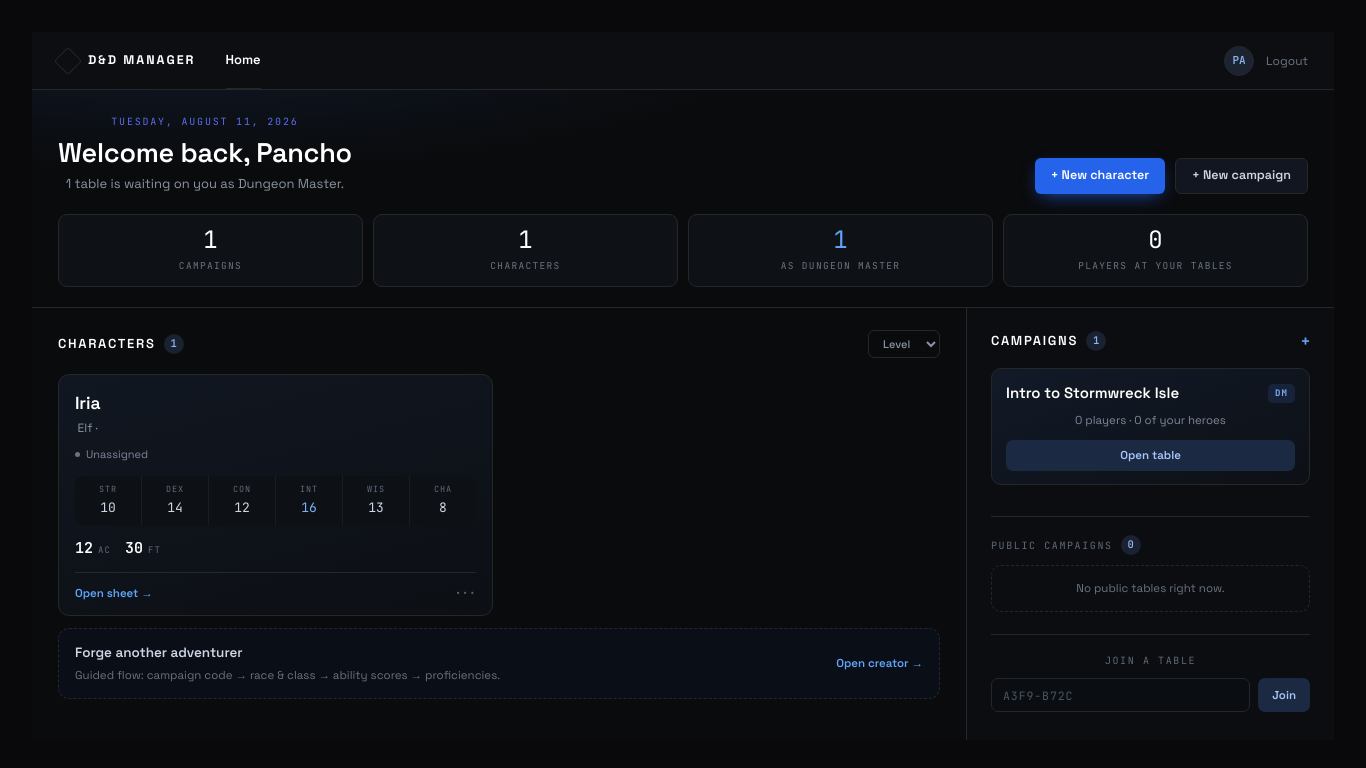
Test case: App home navigation and persistence › persists sort to localStorage and restores it after a character-sheet round trip
Expected: the text "Iria" is shown, [75, 390, 100, 416]
Select "Level" in the dropdown named "Sort characters". click: point(904, 344)
box: [868, 330, 940, 358]
Click the button "Intro to Stormwreck Isle". click: point(1093, 394)
box: [1006, 382, 1179, 405]
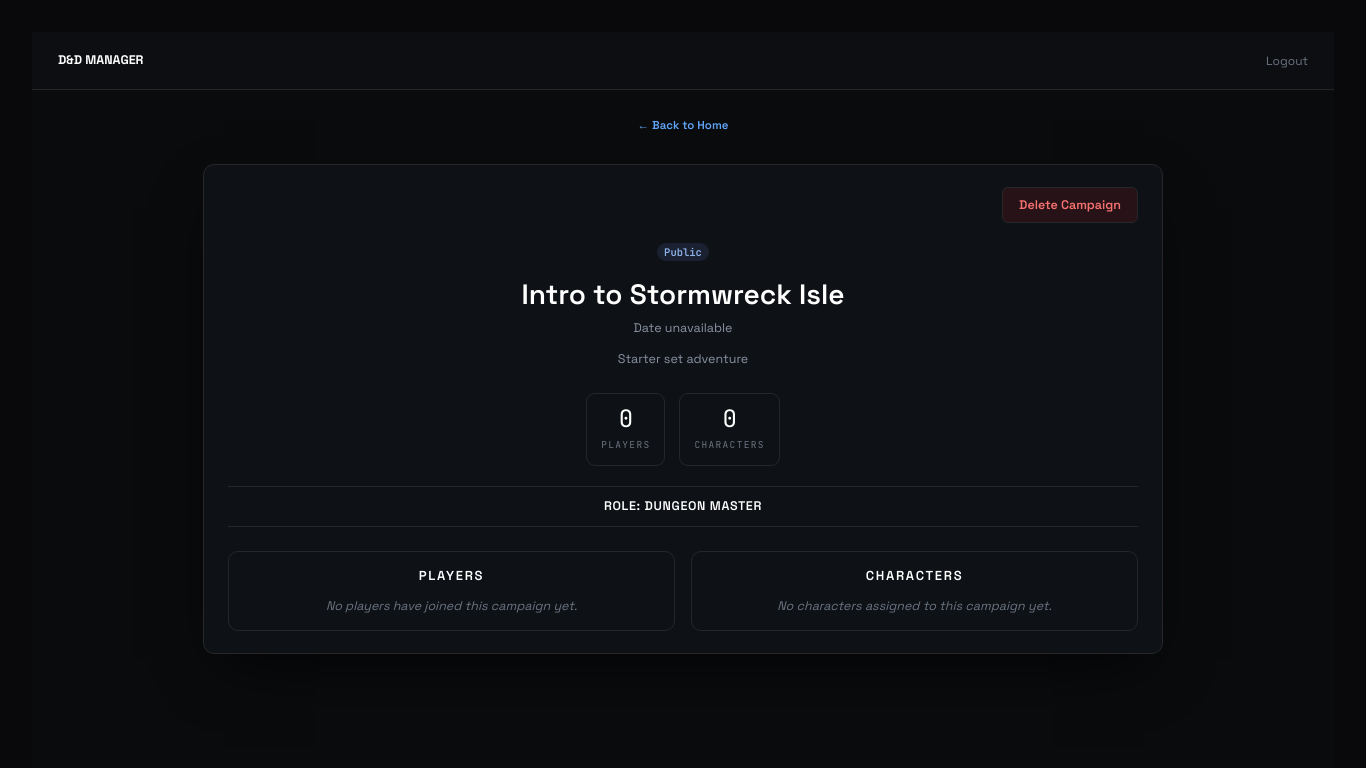
Expected: the heading "Intro to Stormwreck Isle" is shown, [521, 276, 844, 312]
Click the button "← Back to Home". click: point(683, 126)
box: [638, 117, 728, 134]
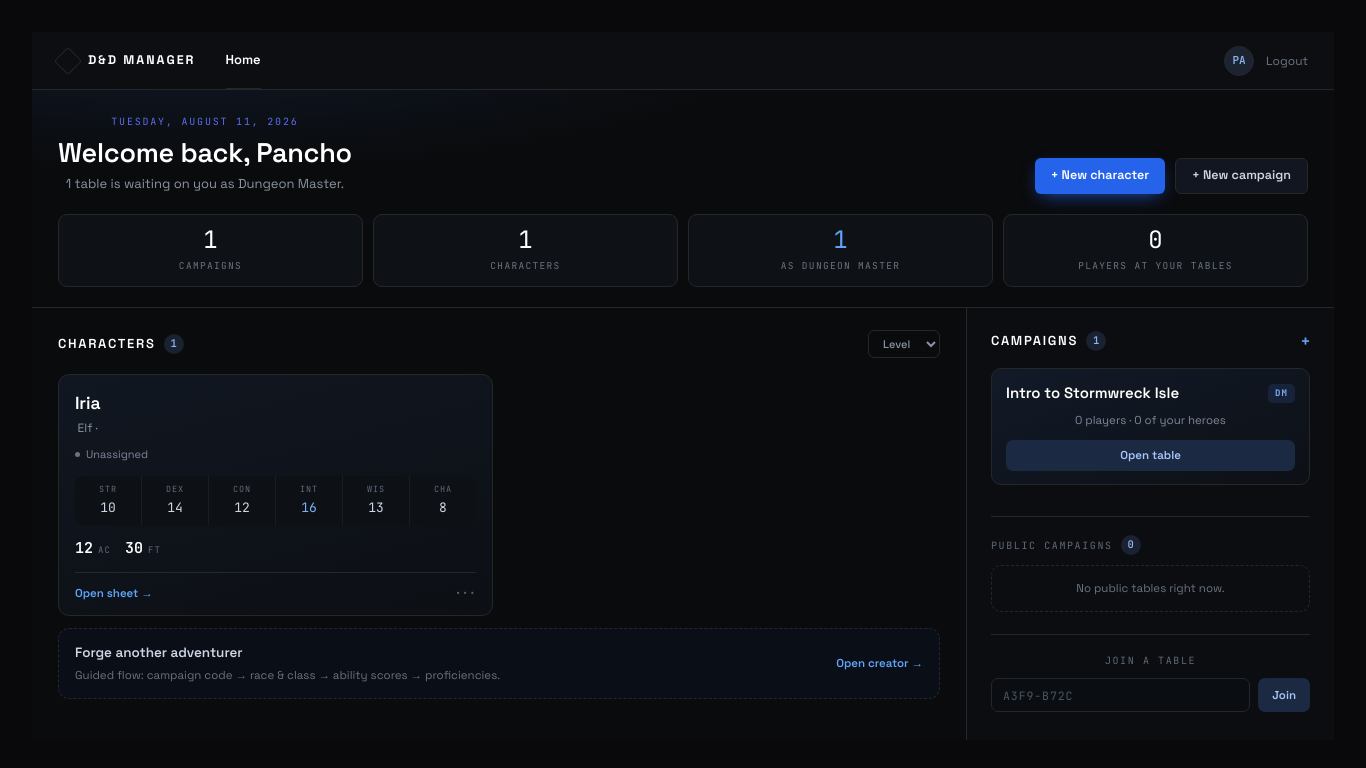
Expected: the text "Forge another adventurer" is shown, [75, 644, 243, 661]
Expected: the dropdown named "Sort characters" shows "Level", [868, 330, 940, 358]
